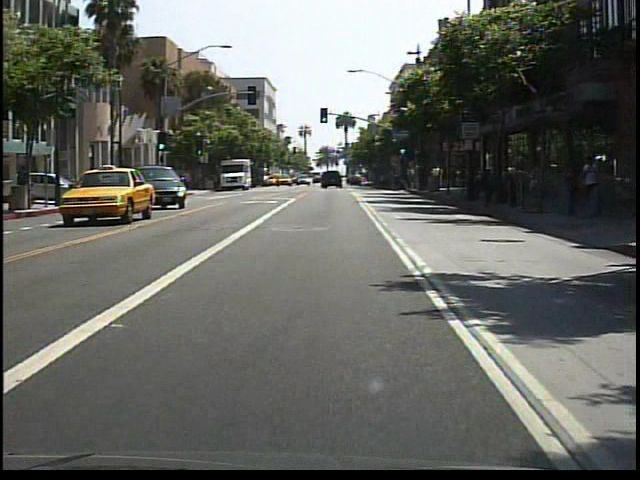person: (579, 152, 605, 192)
